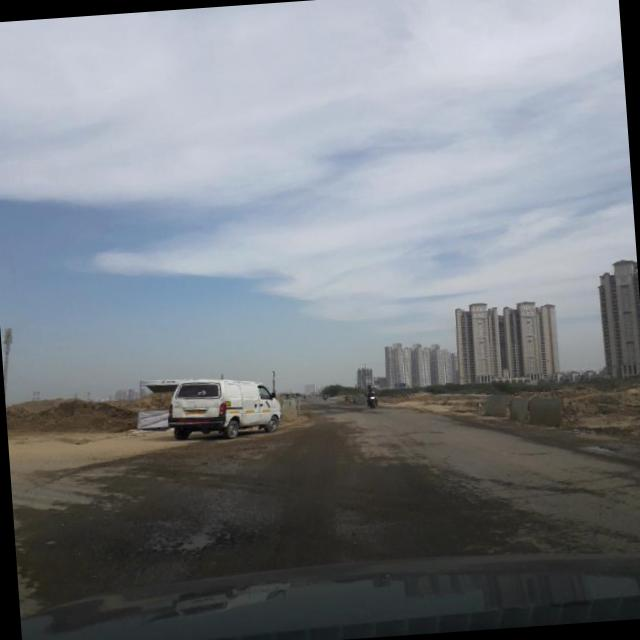crack: (408, 430, 530, 536)
pothole: (117, 450, 295, 563)
